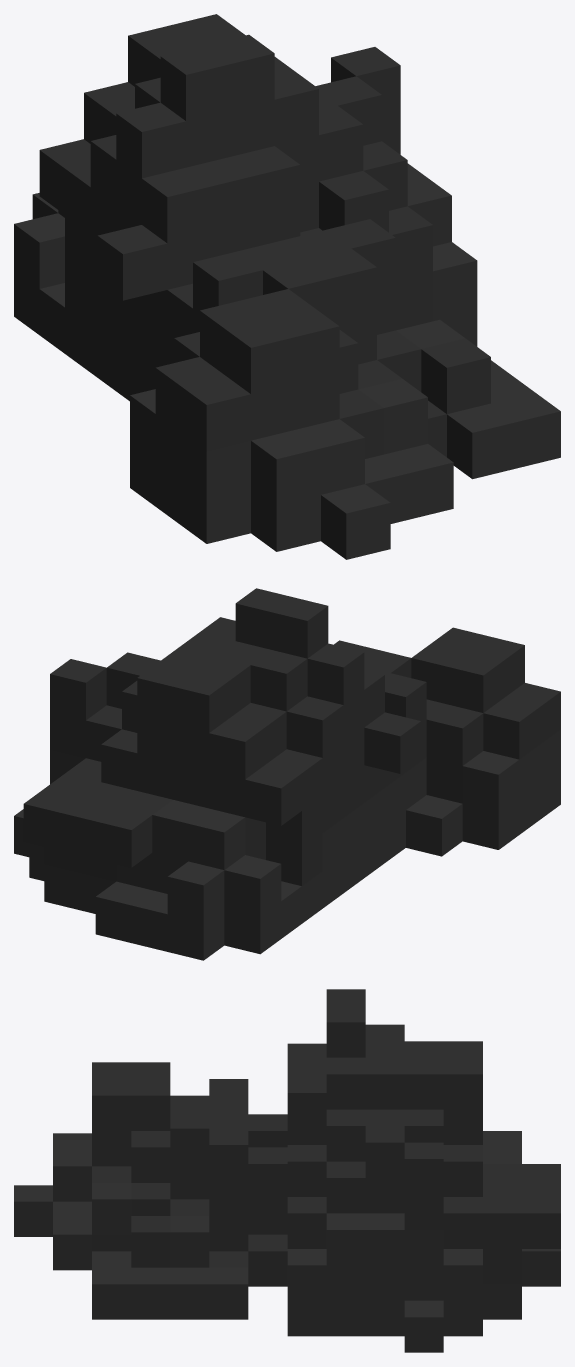
The model's file is chicken-10.obj.
3 views of the same model, one above another, from view 1: azimuth 30°, elevation 25°; view 2: azimuth 150°, elevation 25°; view 3: azimuth 270°, elevation 25° (orthographic). The views are drawn at different scales.
Size of the model in its own units: 1 by 0.7 by 1.4.
1 material, 1 textured.
